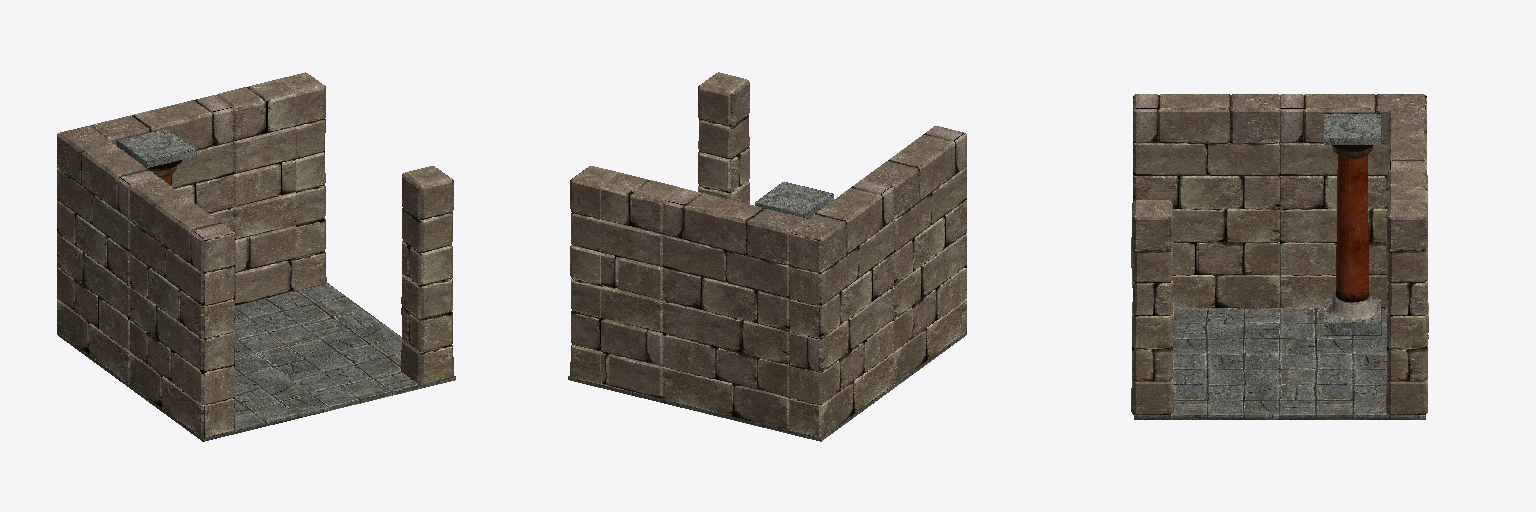
3 renders of one model, left to right at view 1: azimuth 30°, elevation 25°; view 2: azimuth 150°, elevation 25°; view 3: azimuth 270°, elevation 25°, orthographic.
Visible parts, largest first — view 1: Box4139, Box4144, Box001ui, Box4146, Box4141, Box4138, Box4145, Box4142, Box4140, Box004OP; view 2: Box4138, Box4144, Box4139, Box001ui, Box4145, Box4146, Box004OP, Box4143; view 3: Box4139, Box4144, Box4146, Box4145, Box4141, Box4142, Line002, Box4140, Box4143, Box4138, Box004OP, Box004OOO (+1 smaller).
Part boxes in pixels (x1,y1,x2,y2): Box4139: (130,179,234,437); Box4144: (57,126,160,383); Box001ui: (216,79,295,305); Box4146: (401,166,453,385); Box4141: (257,323,455,410); Box4138: (90,95,232,230); Box4145: (278,72,326,291); Box4142: (235,282,381,353); Box4140: (130,354,329,441); Box004OP: (117,128,196,167); Box4138: (663,188,806,429); Box4144: (789,179,893,437); Box4139: (863,126,966,383); Box001ui: (600,172,680,398); Box4145: (570,166,618,385); Box4146: (698,72,749,203); Box004OP: (755,182,833,218); Box4143: (694,385,893,441); Box4139: (1133,94,1279,307); Box4144: (1280,94,1426,307); Box4146: (1131,200,1173,414); Box4145: (1386,200,1428,414); Box4141: (1134,354,1279,419); Box4142: (1279,354,1425,419); Line002: (1327,145,1377,320); Box4140: (1173,308,1279,354); Box4143: (1280,308,1386,354); Box4138: (1388,110,1426,172); Box004OP: (1324,113,1381,144); Box004OOO: (1324,298,1381,335).
Size of the model in its own units: 4.03 by 3.08 by 4.09.
Materials: 4 (4 with a texture image).